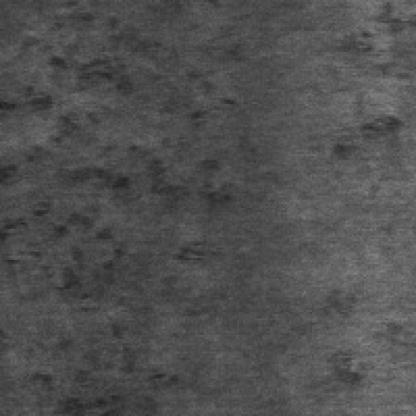rolled-in_scale: (0, 85, 142, 408), (148, 54, 233, 266), (9, 9, 141, 139), (316, 102, 404, 170)
